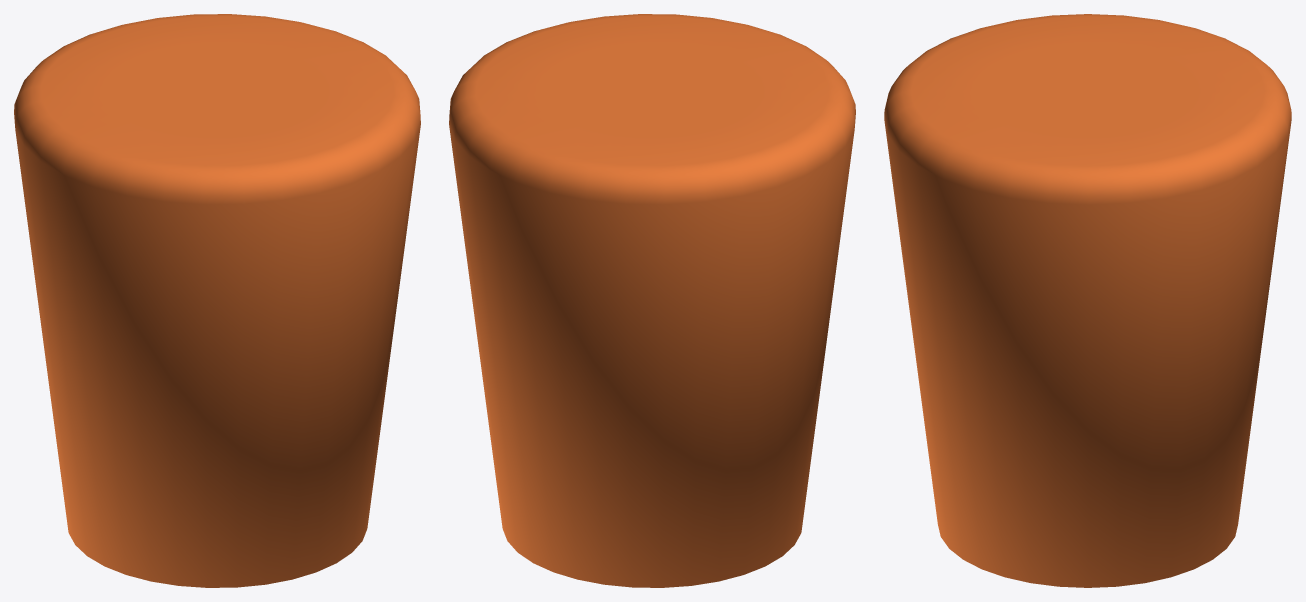
The model's file is Cork_Bottle.fbx.
The picture shows the model from 3 angles, left to right: view 1: azimuth 30°, elevation 25°; view 2: azimuth 150°, elevation 25°; view 3: azimuth 270°, elevation 25°; orthographic projection.
Parts seen in each view (by area): view 1: Cork; view 2: Cork; view 3: Cork.
Boxes of the visible parts, left/top/right/bottom form: Cork: left=14, top=14, right=420, bottom=587; Cork: left=449, top=14, right=855, bottom=587; Cork: left=884, top=14, right=1291, bottom=587.
Bounding box in the file's own units: 181 × 213 × 181.
